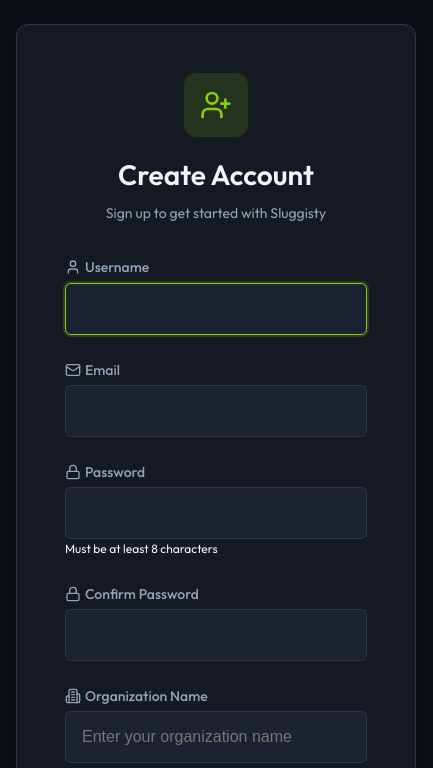
Scenario: Register › shows error on failed registration
Type "existinguser" into the field labelled "Username" at (216, 309), box [65,283,367,335]
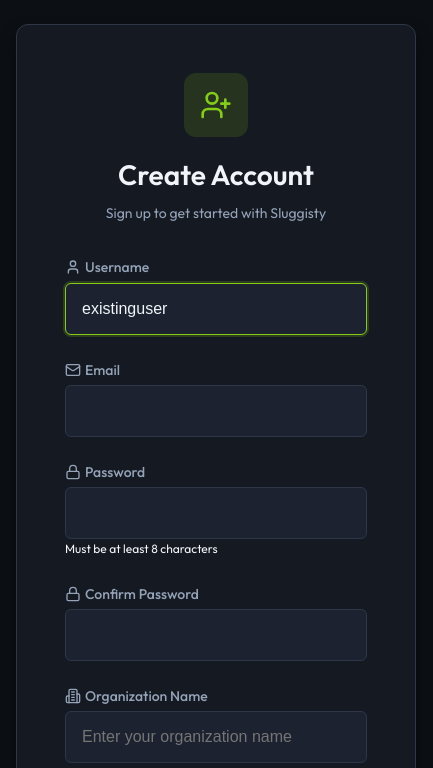
Type "test@example.com" into the field labelled "Email" at (216, 411), box [65,385,367,437]
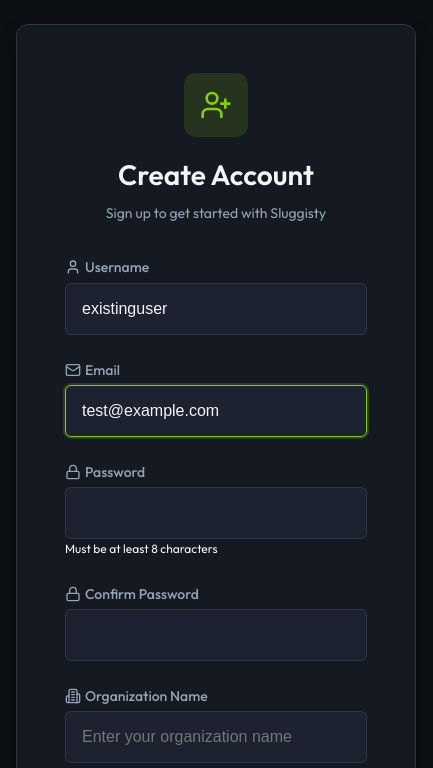
Type "StrongP@ss123" into the password field labelled "Password" at (216, 513), box [65,487,367,539]
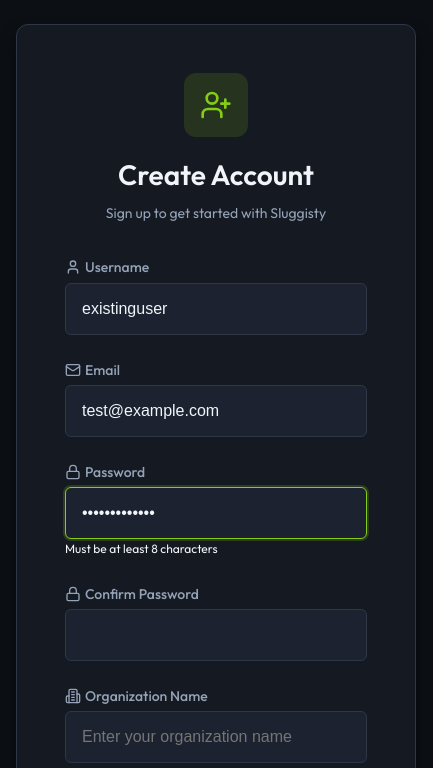
Type "StrongP@ss123" into the password field labelled "Confirm Password" at (216, 635), box [65,609,367,661]
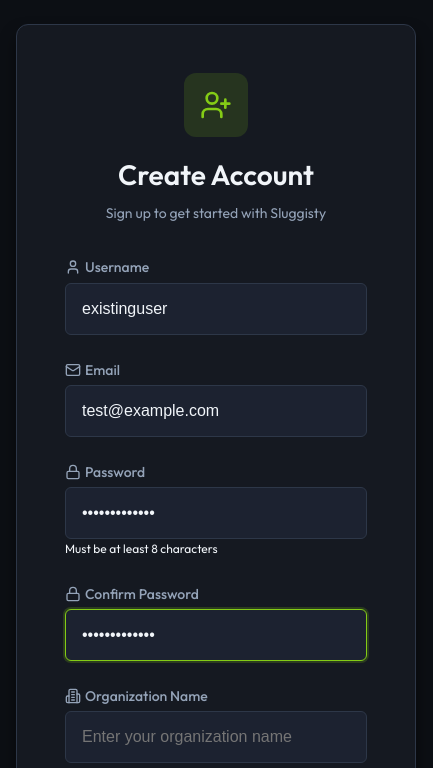
Type "Test Org" into the field labelled "Organization Name" at (216, 737), box [65,711,367,763]
(page scrolled)
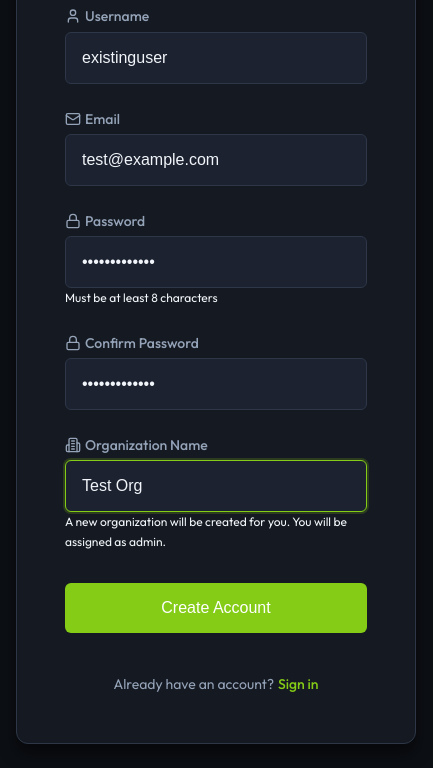
Click the button "Create Account" at (216, 608), box [65,583,367,633]
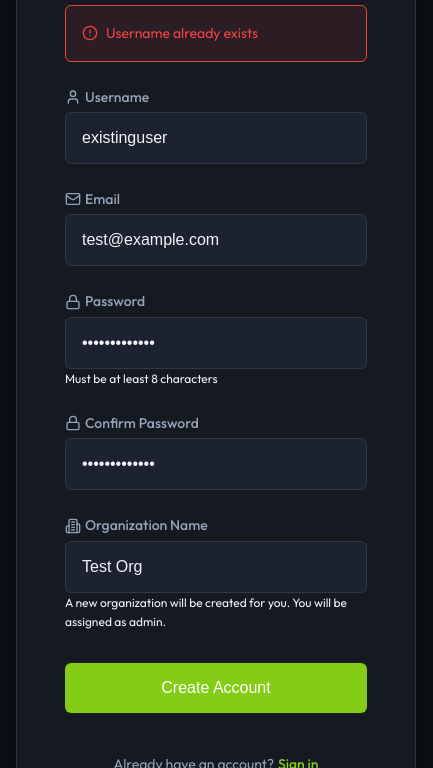
expect the text "Username already exists" is shown: met, box [106,22,258,45]
